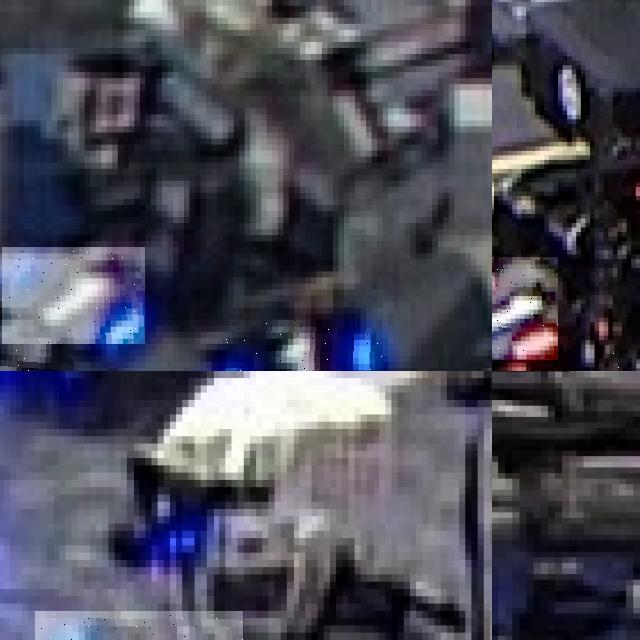B1: (2, 247, 145, 344), (222, 319, 382, 371)
B3: (34, 611, 243, 640)
R1: (492, 256, 558, 360)
